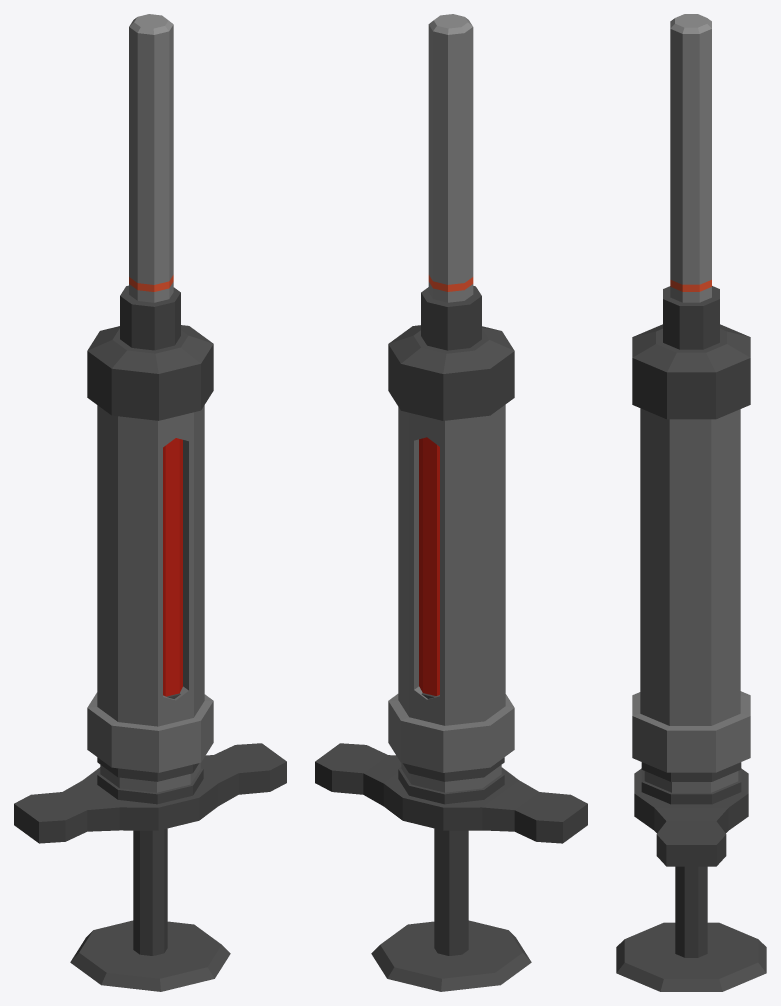
Rendered from MED.fbx.
3 views of the same model, side by side, from view 1: azimuth 30°, elevation 25°; view 2: azimuth 150°, elevation 25°; view 3: azimuth 270°, elevation 25° (orthographic).
Parts seen in each view (by area): view 1: MED Syringe; view 2: MED Syringe; view 3: MED Syringe.
Boxes of the visible parts, box(x1,y1,x2,y2) form: MED Syringe: box(14, 14, 286, 991); MED Syringe: box(315, 14, 587, 991); MED Syringe: box(616, 14, 766, 991).
Bounding box in the file's own units: 159 × 573 × 82.98.
Materials: 1 (1 with a texture image).
